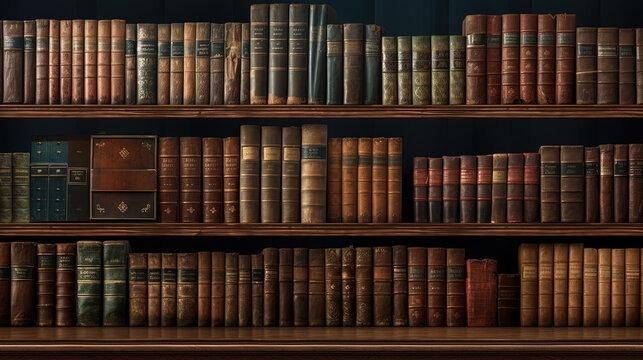book: (301, 125, 327, 223), (102, 241, 129, 327), (32, 139, 59, 221), (10, 243, 36, 326), (76, 241, 101, 327), (466, 258, 497, 327), (288, 4, 308, 105), (239, 126, 260, 222), (269, 4, 288, 105), (465, 15, 486, 105), (560, 145, 584, 223), (35, 242, 57, 326), (2, 21, 24, 104), (261, 126, 280, 222), (281, 127, 300, 223), (250, 4, 268, 105), (180, 137, 201, 223), (309, 7, 327, 105), (55, 243, 76, 327), (556, 15, 575, 106), (158, 137, 178, 222), (596, 27, 617, 107), (537, 13, 555, 106), (136, 22, 156, 105), (203, 137, 222, 223), (539, 147, 560, 223), (502, 13, 519, 106), (520, 13, 537, 106), (576, 26, 596, 105), (344, 22, 363, 105), (518, 244, 537, 327), (177, 253, 198, 327), (446, 249, 465, 328), (486, 14, 502, 104), (427, 248, 445, 327), (128, 253, 147, 327), (408, 248, 426, 326), (341, 137, 357, 223), (223, 137, 239, 222), (374, 247, 391, 326), (225, 23, 241, 106), (619, 28, 636, 106), (110, 19, 125, 106), (326, 23, 342, 104), (365, 24, 381, 105), (431, 36, 449, 108), (372, 138, 387, 224), (387, 138, 402, 224), (356, 246, 372, 326), (12, 152, 30, 223), (325, 247, 341, 326), (195, 23, 210, 106), (553, 243, 568, 326), (209, 24, 224, 107), (309, 249, 325, 326), (568, 244, 583, 326), (538, 244, 553, 326), (628, 143, 643, 225), (412, 36, 429, 108), (523, 153, 540, 225), (97, 19, 111, 106), (507, 154, 524, 225), (35, 19, 49, 105), (613, 145, 628, 225), (476, 155, 493, 225), (625, 247, 640, 326), (459, 155, 476, 224), (293, 248, 308, 326), (161, 254, 177, 327), (449, 34, 465, 107), (170, 23, 184, 106), (327, 139, 341, 222), (443, 156, 460, 224), (611, 248, 626, 325), (263, 249, 278, 326), (585, 147, 600, 223), (382, 35, 398, 106), (497, 275, 519, 326), (597, 248, 611, 328), (583, 247, 597, 327), (342, 247, 356, 327), (84, 20, 97, 106), (60, 20, 73, 106), (210, 252, 225, 326), (599, 144, 613, 223), (393, 247, 407, 326), (72, 20, 85, 105), (358, 138, 371, 223), (23, 20, 36, 105), (279, 249, 293, 326), (183, 24, 196, 106), (397, 37, 412, 108), (491, 153, 506, 224), (157, 24, 170, 105), (147, 253, 161, 327), (48, 19, 60, 105), (224, 253, 238, 326), (428, 156, 443, 224), (238, 254, 252, 326), (413, 157, 428, 223), (198, 252, 211, 326), (251, 253, 264, 326), (125, 25, 136, 105), (240, 24, 250, 106), (0, 242, 10, 324), (0, 154, 12, 222), (638, 28, 643, 105)
